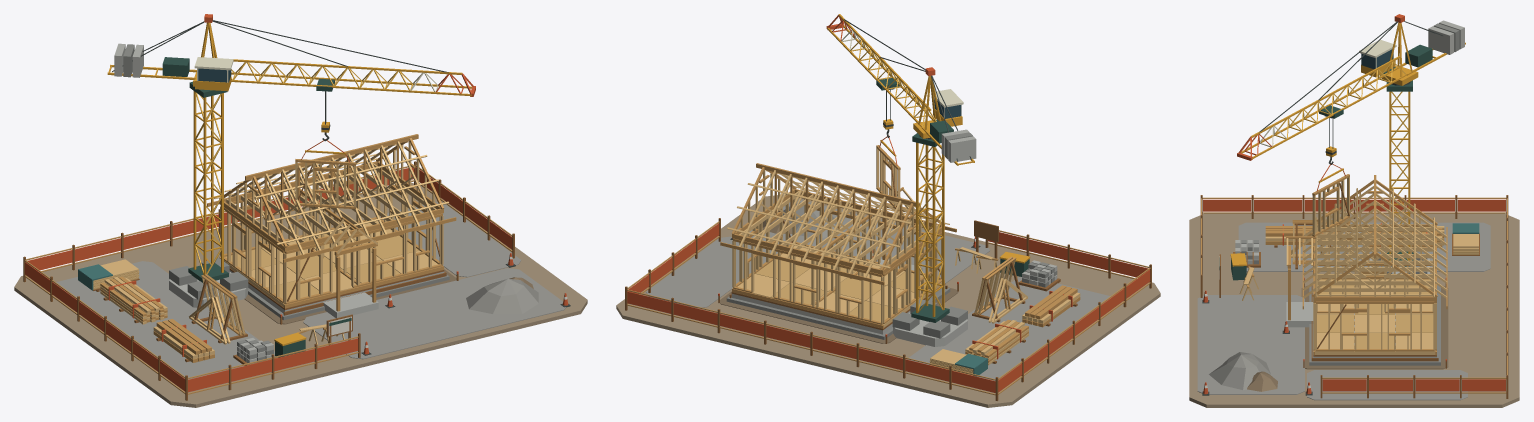
The model's file is construction_site.glb.
3 views of the same model, side by side, from view 1: azimuth 30°, elevation 25°; view 2: azimuth 150°, elevation 25°; view 3: azimuth 270°, elevation 25° (orthographic). The views are drawn at different scales.
Parts seen in each view (by area): view 1: LotPad, SitePerimeter, Stage3_FirstFloorWalls, Crane_Jib, Stage4_UpperFrameAndGables, Stage5_RoofTrusses, Crane_Base, Stage2_FloorDeck, Stage1_Foundation, Pile_PrefabFrames, Pile_GravelMound, Pile_LumberStack_1 (+5 smaller); view 2: LotPad, SitePerimeter, Stage3_FirstFloorWalls, Stage5_RoofTrusses, Stage4_UpperFrameAndGables, Crane_Base, Stage2_FloorDeck, Crane_Jib, Pile_PrefabFrames, Stage1_Foundation, Pile_LumberStack_1, Pile_LumberStack_2 (+5 smaller); view 3: LotPad, SitePerimeter, Stage4_UpperFrameAndGables, Stage5_RoofTrusses, Crane_Jib, Stage2_FloorDeck, Stage3_FirstFloorWalls, Stage1_Foundation, Crane_Base, Pile_GravelMound, Crane_Payload_Frame, Pile_PlywoodSheets (+5 smaller).
Boxes of the visible parts, x1,y1,x2,y2 form: LotPad: (14, 183, 587, 407); SitePerimeter: (23, 161, 570, 400); Stage3_FirstFloorWalls: (220, 168, 443, 311); Crane_Jib: (107, 14, 475, 96); Stage4_UpperFrameAndGables: (219, 134, 443, 251); Stage5_RoofTrusses: (207, 141, 456, 262); Crane_Base: (169, 81, 248, 307); Stage2_FloorDeck: (219, 221, 444, 310); Stage1_Foundation: (229, 270, 449, 320); Pile_PrefabFrames: (189, 274, 247, 344); Pile_GravelMound: (466, 277, 538, 313); Pile_LumberStack_1: (100, 276, 167, 324); LotPad: (616, 194, 1160, 407); SitePerimeter: (625, 218, 1151, 400); Stage3_FirstFloorWalls: (732, 195, 941, 324); Stage5_RoofTrusses: (720, 170, 956, 285); Stage4_UpperFrameAndGables: (732, 163, 945, 274); Crane_Base: (892, 133, 967, 346); Stage2_FloorDeck: (731, 245, 945, 330); Crane_Jib: (826, 14, 976, 165); Pile_PrefabFrames: (972, 256, 1027, 323); Stage1_Foundation: (726, 258, 950, 339); Pile_LumberStack_1: (965, 319, 1028, 365); Pile_LumberStack_2: (1022, 285, 1080, 327); LotPad: (1189, 213, 1519, 407); SitePerimeter: (1200, 195, 1508, 398); Stage4_UpperFrameAndGables: (1312, 175, 1437, 301); Stage5_RoofTrusses: (1286, 186, 1447, 309); Crane_Jib: (1237, 14, 1465, 160); Stage2_FloorDeck: (1313, 279, 1436, 356); Stage3_FirstFloorWalls: (1287, 231, 1436, 351); Stage1_Foundation: (1286, 285, 1440, 365); Crane_Base: (1370, 80, 1429, 273); Pile_GravelMound: (1209, 352, 1277, 391); Crane_Payload_Frame: (1312, 163, 1349, 236); Pile_PlywoodSheets: (1452, 223, 1479, 255).
Size of the model in its own units: 22 by 14.12 by 16.
